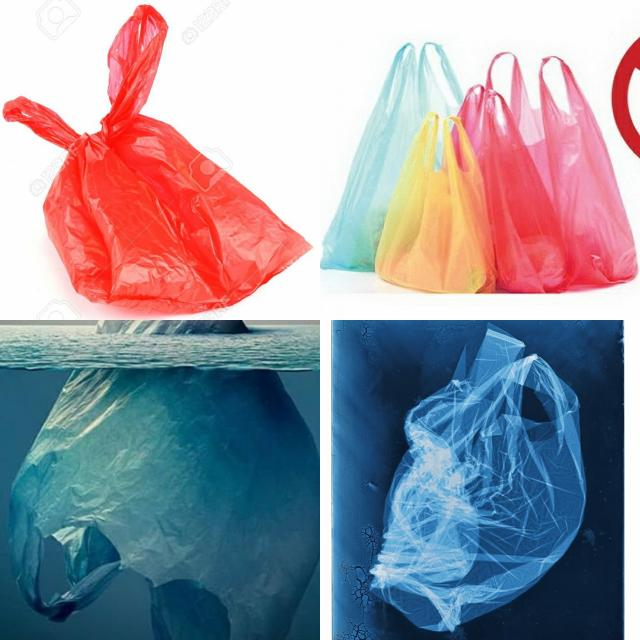Single-layer Plastic: (4, 5, 310, 313), (10, 368, 319, 640), (371, 324, 585, 631), (510, 55, 638, 286), (321, 44, 424, 271), (459, 85, 566, 292), (375, 112, 495, 292), (486, 52, 511, 89)
